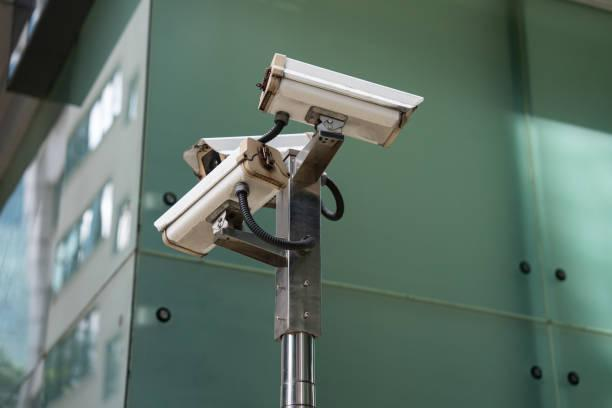camera: (137, 119, 317, 271), (255, 47, 424, 154)
